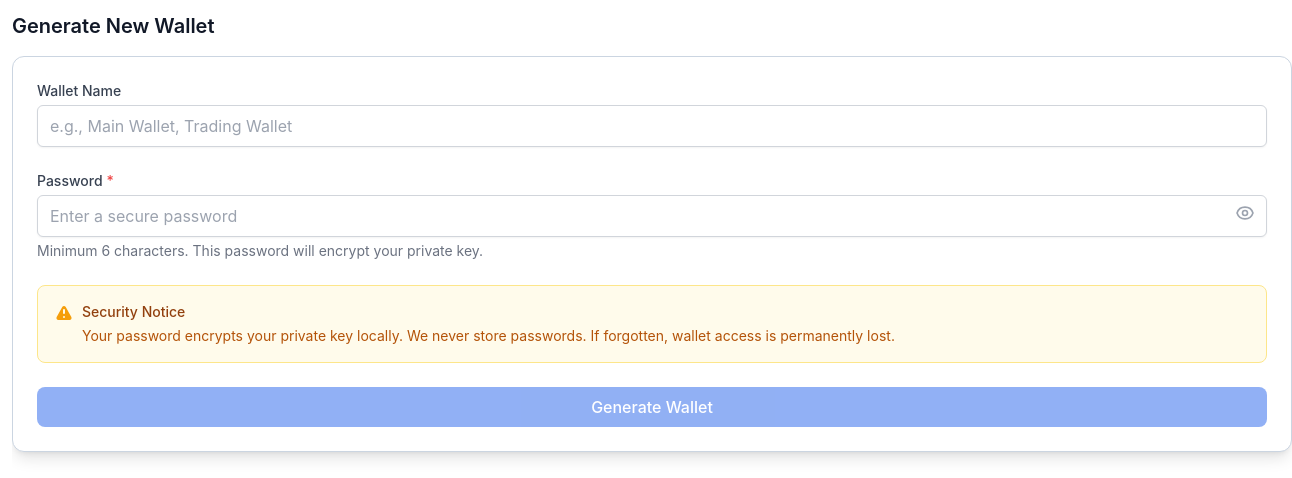
Scenario: WalletGenerator › enables submit when password is valid
Type "validpass" into the password field with placeholder "Enter a secure password".
click(652, 216); type("validpass")  # box [37,195,1267,237]
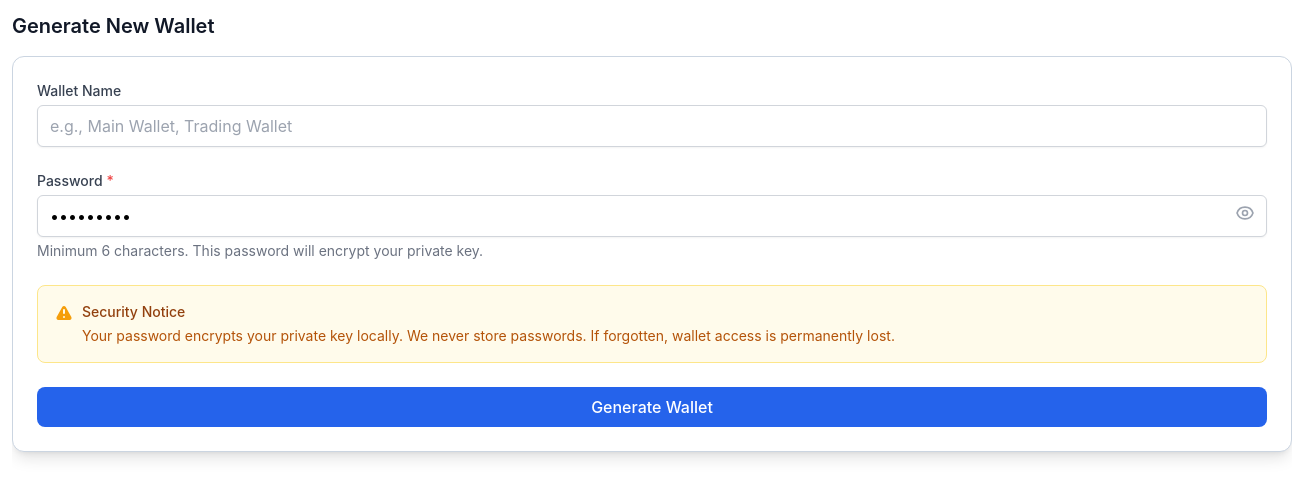
Expected: the button "Generate Wallet" is enabled, [37,387,1267,427]
